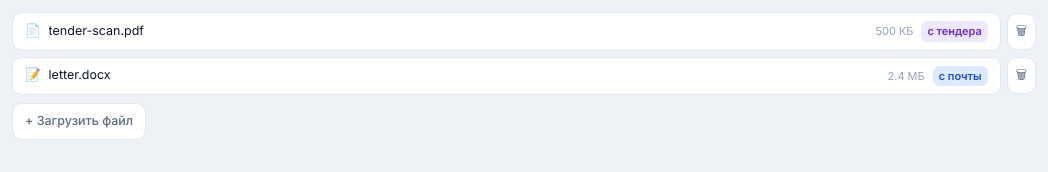
Test case: LeadAttachments › удаление вложения после подтверждения убирает его из списка
The width and height of the screenshot is (1048, 172).
Expected: the text "tender-scan.pdf" is shown, [49,23,144,38]
Click the button named "Удалить вложение tender-scan.pdf" at coordinates (1021, 31), box [1007,13,1036,50]
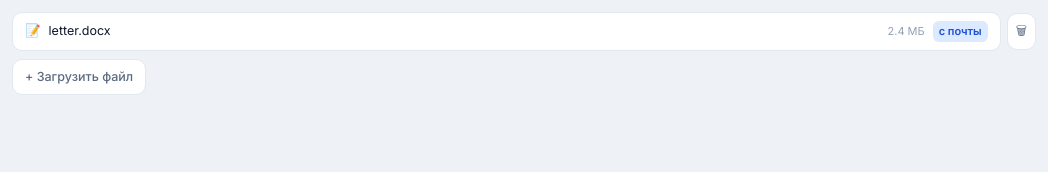
Expected: the text "letter.docx" is shown, [49,23,111,38]
Result: the link "tender-scan.pdf" is gone
